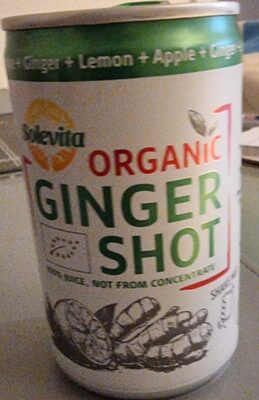Shot de gingembre bio: (13, 20, 246, 380)
